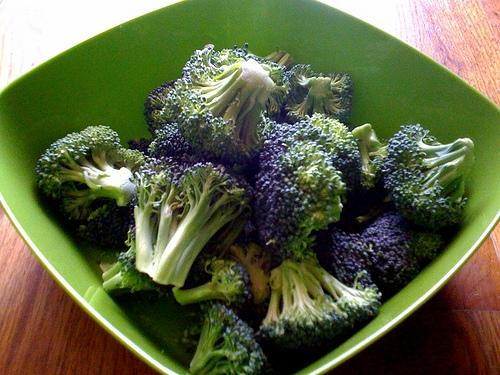broccoli: (130, 154, 254, 288), (162, 42, 290, 164), (256, 252, 383, 358), (254, 122, 348, 263), (308, 208, 440, 304), (378, 123, 476, 234), (35, 125, 136, 218), (283, 113, 362, 200), (190, 299, 266, 375), (102, 221, 160, 300), (284, 64, 354, 126), (148, 122, 234, 172), (172, 256, 252, 308), (228, 242, 272, 305), (80, 203, 131, 255), (357, 144, 385, 195), (351, 123, 388, 160), (108, 148, 150, 174)
